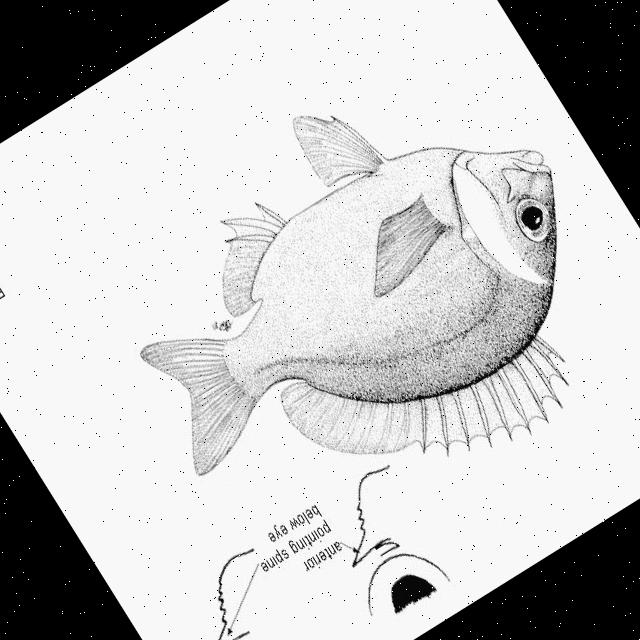ikan: (46, 1, 640, 608)
